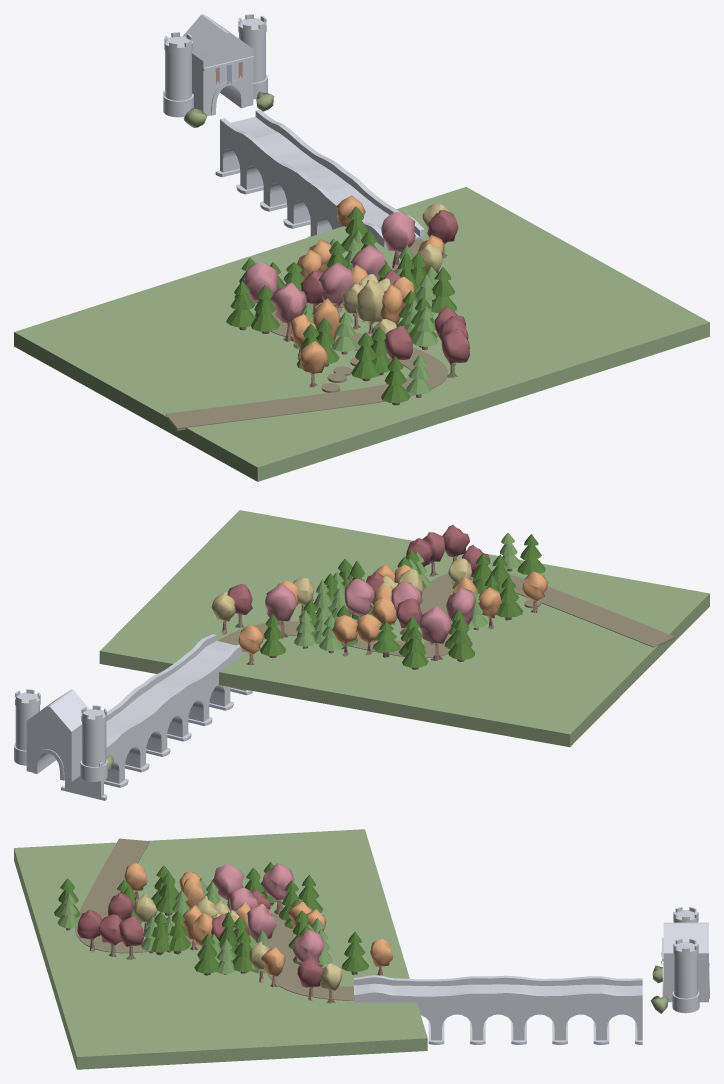
File: CastleForest_Track.fbx
The picture shows the model from 3 angles, top to bottom: view 1: azimuth 30°, elevation 25°; view 2: azimuth 150°, elevation 25°; view 3: azimuth 270°, elevation 25°; orthographic projection. The views are drawn at different scales.
Visible parts, largest first — view 1: ForestTrack:pCube3, Bridge_1, ForestTrack:pCube2, Arch, Tower_L, ForestTrack:pCube1 (×2), Tower_R, ForestTrack:pCube9, ForestTrack:pCube5, ForestTrack:pCube4, ForestTrack:pCylinder16, ForestTrack:pCylinder11 (+7 smaller); view 2: ForestTrack:pCube3, Bridge_1, ForestTrack:pCube2, Arch, ForestTrack:pCube1 (×5), Tower_L, Tower_R, ForestTrack:pCylinder1 (×2), ForestTrack:pCube4, ForestTrack:Tree7:pCube1, ForestTrack:pCube9, ForestTrack:pCylinder16 (+13 smaller); view 3: ForestTrack:pCube3, Bridge_1, ForestTrack:pCube2, ForestTrack:pCube1 (×5), Arch, Tower_R, ForestTrack:pCylinder1 (×2), ForestTrack:pCube4, ForestTrack:pCube9, ForestTrack:Tree7:pCube1, pCylinder54, ForestTrack:pCylinder22 (+16 smaller).
Part boxes in pixels (bbox=[...]): ForestTrack:pCube3: bbox=[14, 187, 709, 481]; Bridge_1: bbox=[215, 109, 424, 247]; ForestTrack:pCube2: bbox=[165, 238, 447, 430]; Arch: bbox=[183, 14, 254, 116]; Tower_L: bbox=[163, 32, 193, 117]; ForestTrack:pCube1 (×2): bbox=[271, 262, 354, 324]; Tower_R: bbox=[238, 14, 267, 99]; ForestTrack:pCube9: bbox=[381, 212, 415, 252]; ForestTrack:pCube5: bbox=[356, 280, 384, 324]; ForestTrack:pCube4: bbox=[244, 262, 278, 301]; ForestTrack:pCylinder16: bbox=[226, 281, 255, 327]; ForestTrack:pCylinder11: bbox=[351, 332, 380, 378]; ForestTrack:pCube3: bbox=[99, 510, 709, 747]; Bridge_1: bbox=[61, 634, 252, 800]; ForestTrack:pCube2: bbox=[218, 573, 674, 658]; Arch: bbox=[26, 689, 89, 781]; ForestTrack:pCube1 (×5): bbox=[331, 581, 475, 643]; Tower_L: bbox=[80, 705, 107, 781]; Tower_R: bbox=[14, 689, 40, 765]; ForestTrack:pCylinder1 (×2): bbox=[294, 610, 400, 652]; ForestTrack:pCube4: bbox=[419, 606, 451, 644]; ForestTrack:Tree7:pCube1: bbox=[344, 578, 374, 616]; ForestTrack:pCube9: bbox=[265, 584, 296, 621]; ForestTrack:pCylinder16: bbox=[448, 618, 474, 659]; ForestTrack:pCube3: bbox=[14, 829, 427, 1069]; Bridge_1: bbox=[354, 975, 642, 1044]; ForestTrack:pCube2: bbox=[75, 838, 353, 1000]; ForestTrack:pCube1 (×5): bbox=[119, 864, 258, 946]; Arch: bbox=[662, 922, 709, 1002]; Tower_R: bbox=[672, 938, 699, 1013]; ForestTrack:pCylinder1 (×2): bbox=[169, 911, 255, 971]; ForestTrack:pCube4: bbox=[262, 863, 294, 900]; ForestTrack:pCube9: bbox=[293, 929, 324, 962]; ForestTrack:Tree7:pCube1: bbox=[247, 905, 276, 940]; pCylinder54: bbox=[341, 931, 368, 971]; ForestTrack:pCylinder22: bbox=[194, 933, 218, 973].
Size of the model in its own units: 141 by 32.08 by 182.
